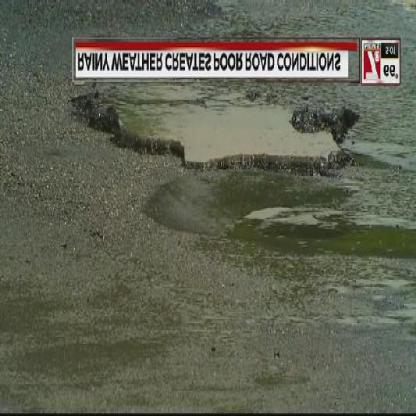pothole: (73, 82, 361, 179)
